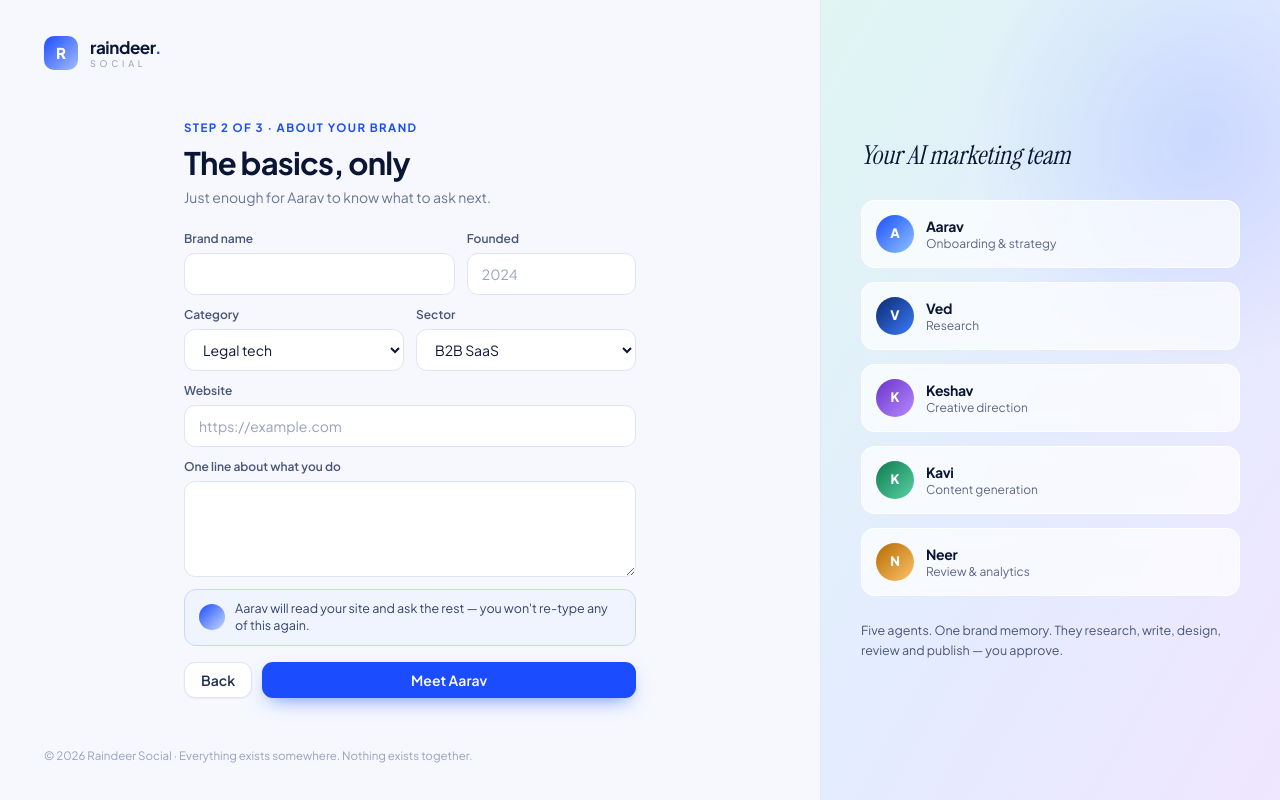
Scenario: SignupBrandPage › shows an error and does not navigate when brand creation fails
This screenshot has width=1280, height=800.
Type "LexStart" into the field labelled "Brand name".
click(319, 274); type("LexStart")  # box [184,253,455,295]
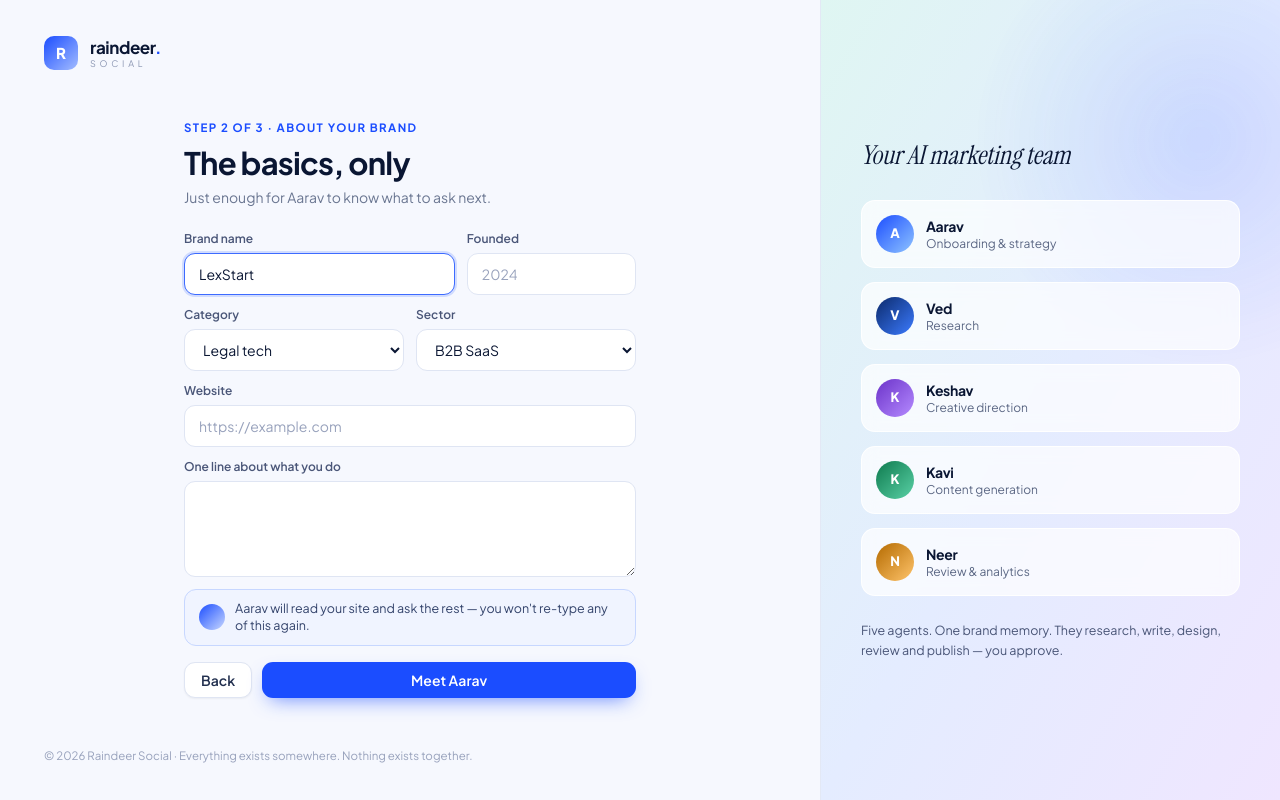
Click the button "Meet Aarav".
click(449, 680)  # box [262,662,636,698]
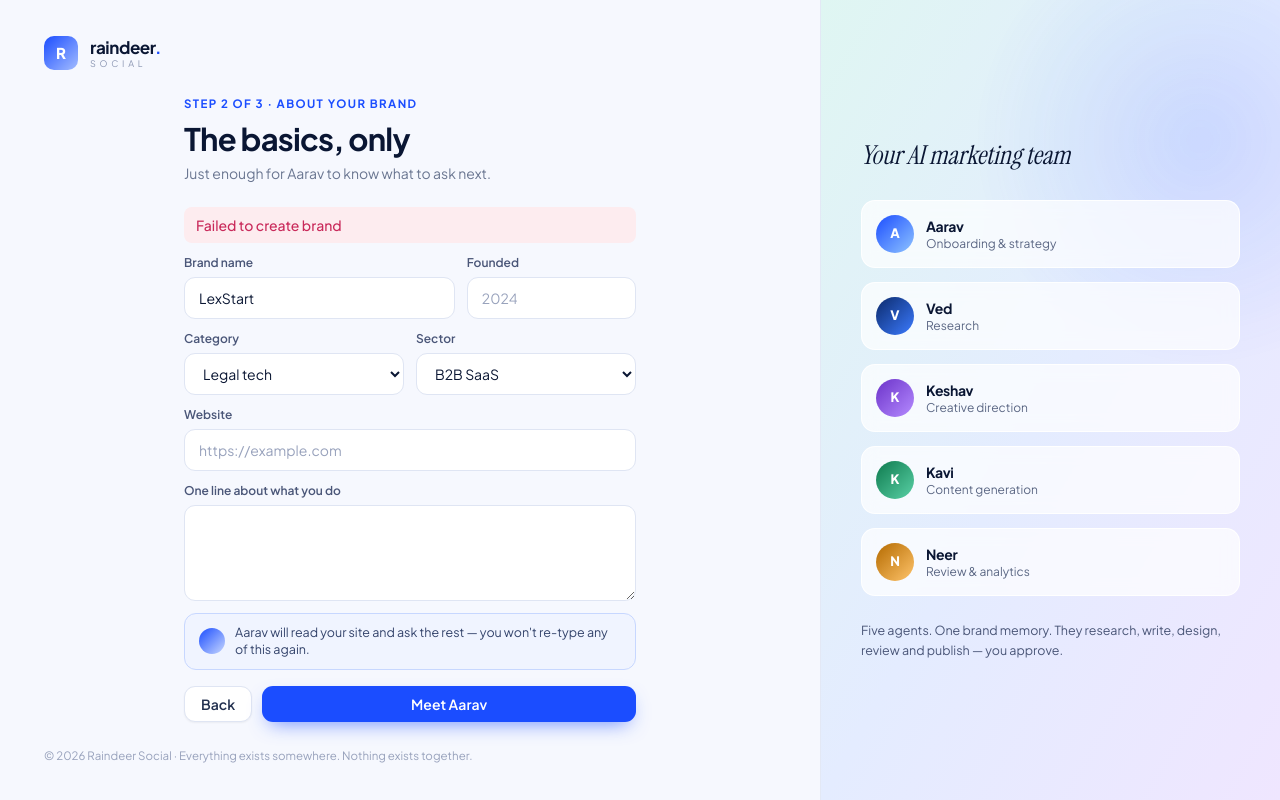
Expected: the text "Failed to create brand" is shown, [184,207,636,243]
